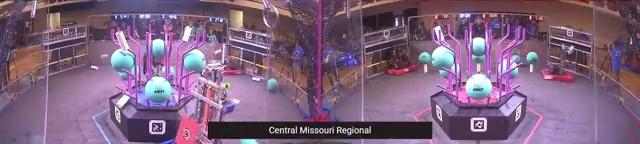reef: (109, 23, 210, 141), (431, 22, 528, 141)
robot: (165, 62, 229, 144), (539, 47, 574, 83), (382, 47, 416, 78), (221, 57, 244, 77)
